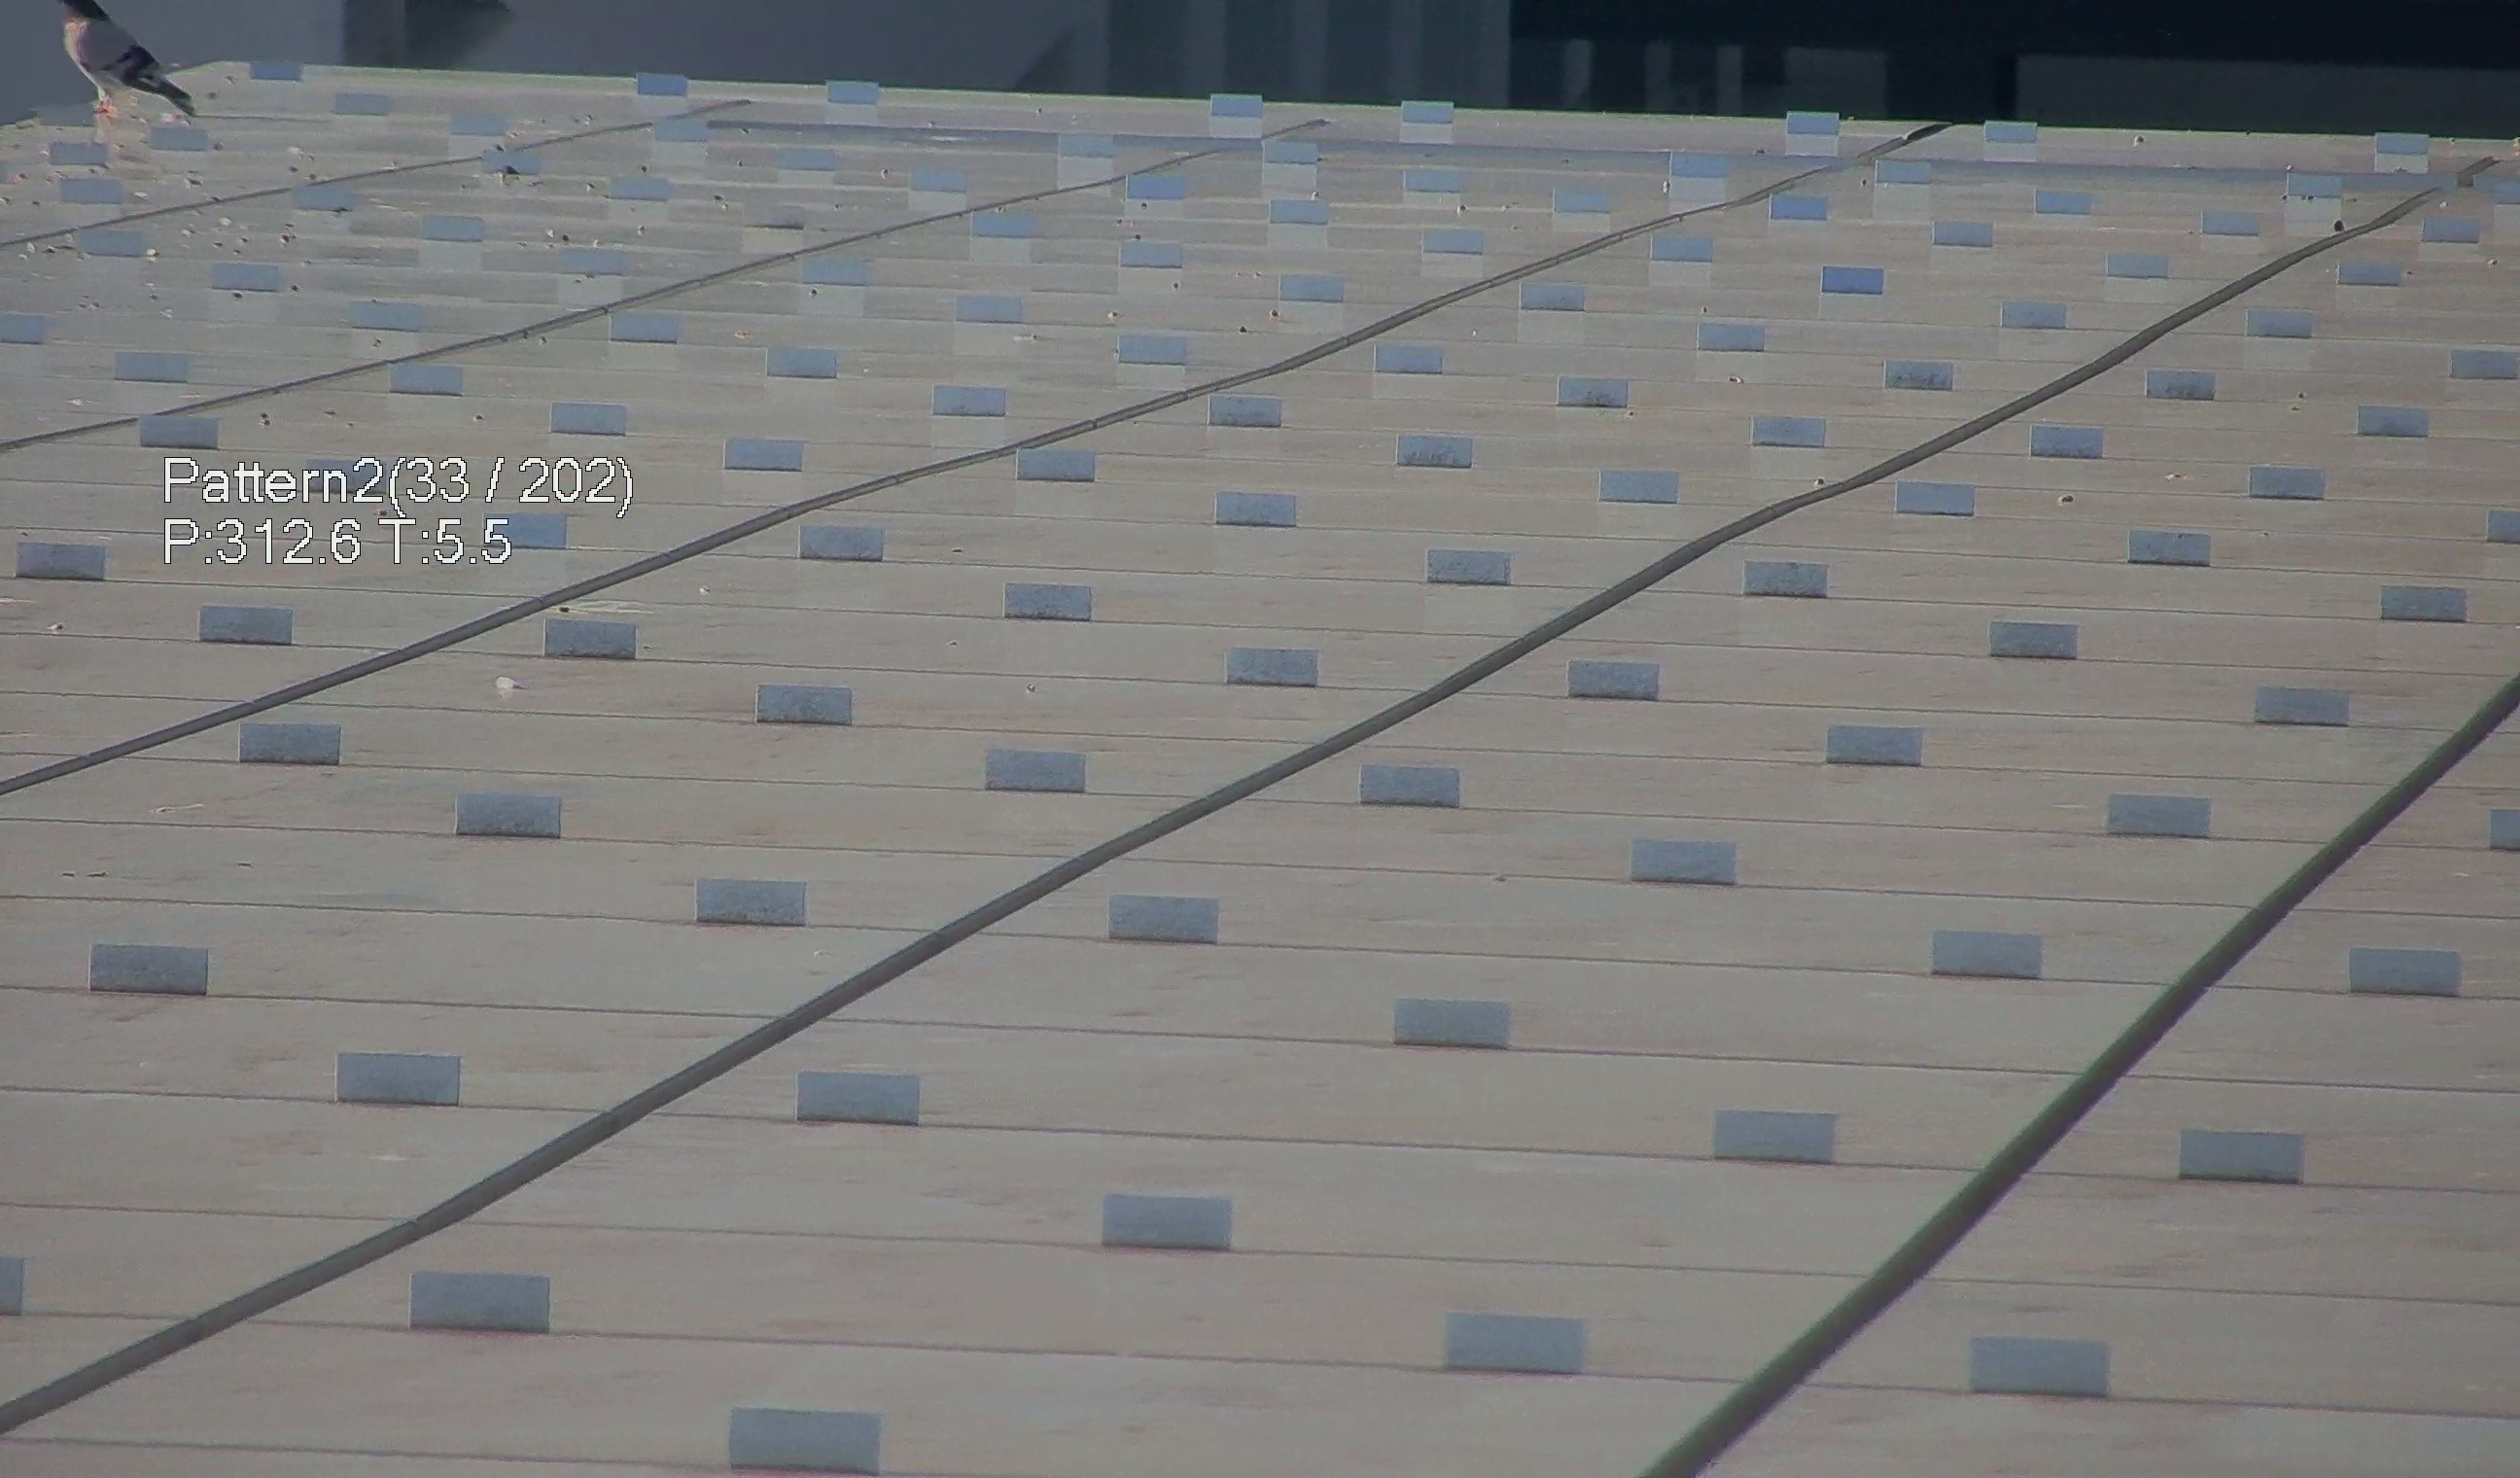Pigeon: (55, 0, 218, 137)
